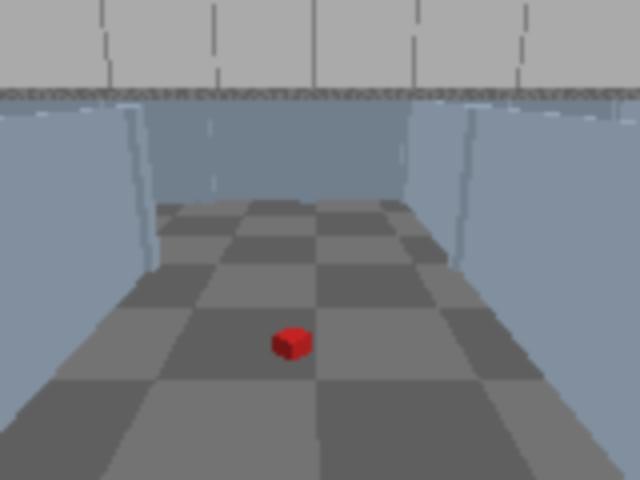puck: (273, 325, 311, 363)
